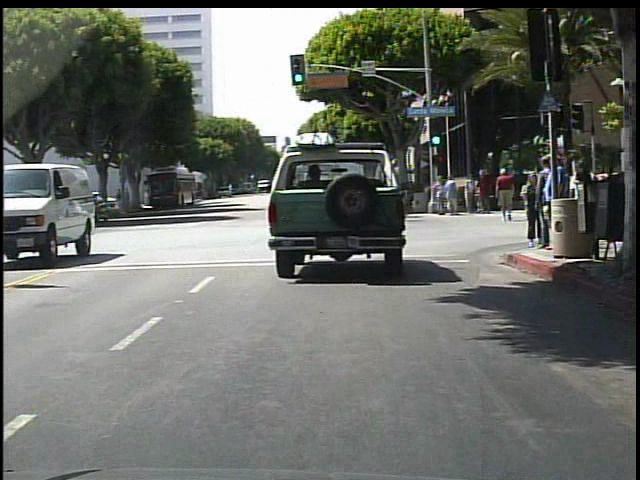person: (538, 151, 562, 260), (522, 169, 544, 248), (539, 152, 555, 251), (497, 167, 517, 222), (520, 176, 538, 222), (540, 170, 555, 219), (445, 175, 460, 217), (478, 169, 492, 212), (465, 173, 477, 213), (436, 175, 446, 214), (115, 188, 125, 211), (125, 187, 133, 212)
